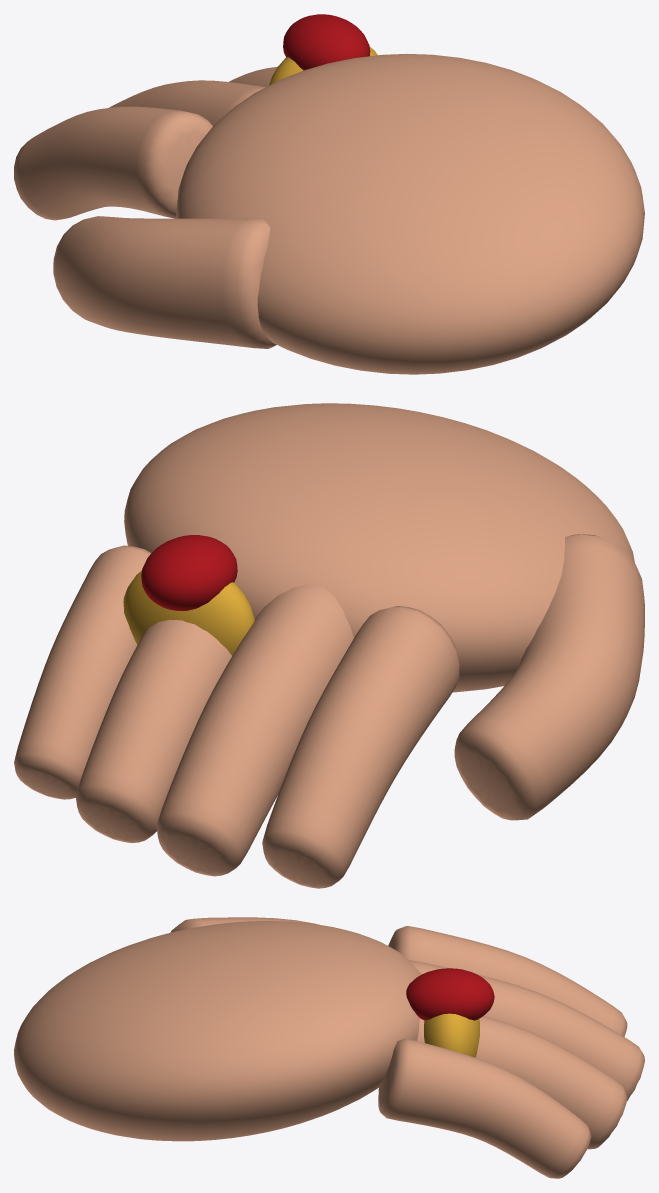
The model's file is local_hand.glb.
3 renders of one model, top to bottom at view 1: azimuth 30°, elevation 25°; view 2: azimuth 150°, elevation 25°; view 3: azimuth 270°, elevation 25°, orthographic. The views are drawn at different scales.
Visible parts, largest first — view 1: PalmR.004, ThumbR.004, FingerIndexR.004, RingRubyR.001, FingerMiddleR.004, FingerRingR.004; view 2: PalmR.004, ThumbR.004, FingerIndexR.004, FingerMiddleR.004, FingerRingR.004, FingerPinkyR.004, RingRubyR.001, RingBandR.001; view 3: PalmR.004, FingerPinkyR.004, FingerRingR.004, FingerMiddleR.004, FingerIndexR.004, RingRubyR.001, RingBandR.001, ThumbR.004.
Part boxes in pixels (x1=…): PalmR.004: x1=176, y1=54, x2=644, y2=374; ThumbR.004: x1=53, y1=216, x2=276, y2=348; FingerIndexR.004: x1=14, y1=106, x2=212, y2=220; RingRubyR.001: x1=283, y1=14, x2=370, y2=70; FingerMiddleR.004: x1=109, y1=80, x2=265, y2=125; FingerRingR.004: x1=229, y1=67, x2=277, y2=87; PalmR.004: x1=124, y1=403, x2=634, y2=692; ThumbR.004: x1=454, y1=534, x2=644, y2=820; FingerIndexR.004: x1=262, y1=606, x2=459, y2=888; FingerMiddleR.004: x1=156, y1=584, x2=353, y2=876; FingerRingR.004: x1=75, y1=619, x2=231, y2=842; FingerPinkyR.004: x1=14, y1=545, x2=151, y2=799; RingRubyR.001: x1=141, y1=535, x2=237, y2=610; RingBandR.001: x1=123, y1=571, x2=254, y2=655; PalmR.004: x1=14, y1=921, x2=421, y2=1141; FingerPinkyR.004: x1=378, y1=1038, x2=591, y2=1178; FingerRingR.004: x1=417, y1=1016, x2=627, y2=1149; FingerMiddleR.004: x1=409, y1=960, x2=644, y2=1100; FingerIndexR.004: x1=388, y1=926, x2=627, y2=1036; RingRubyR.001: x1=406, y1=968, x2=494, y2=1020; RingBandR.001: x1=424, y1=1013, x2=479, y2=1057; ThumbR.004: x1=170, y1=917, x2=319, y2=932.
Bounding box in the file's own units: 0.1052 × 0.048 × 0.1401.
